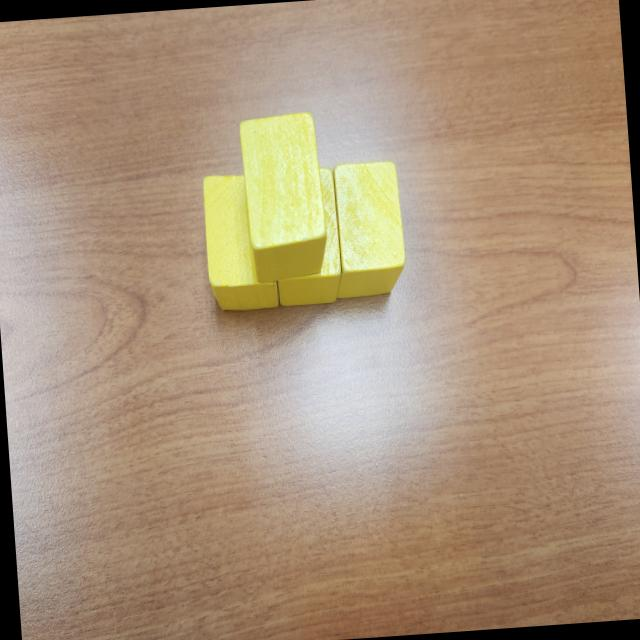yellow: (237, 112, 330, 284), (326, 159, 408, 300), (202, 172, 280, 314), (268, 165, 342, 310)
